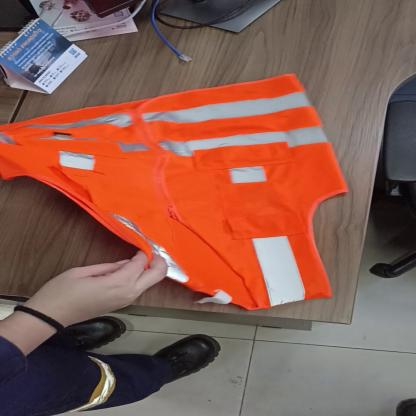colete: (5, 77, 353, 310)
